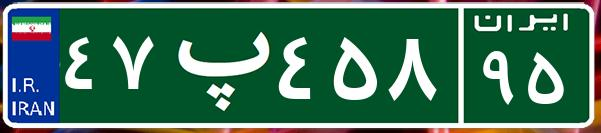4: (273, 28, 330, 110), (57, 26, 110, 107)
5: (330, 28, 385, 110), (525, 38, 570, 115)
7: (110, 28, 158, 105)
8: (385, 28, 445, 110)
9: (475, 38, 525, 113)
پ: (158, 15, 273, 115)
